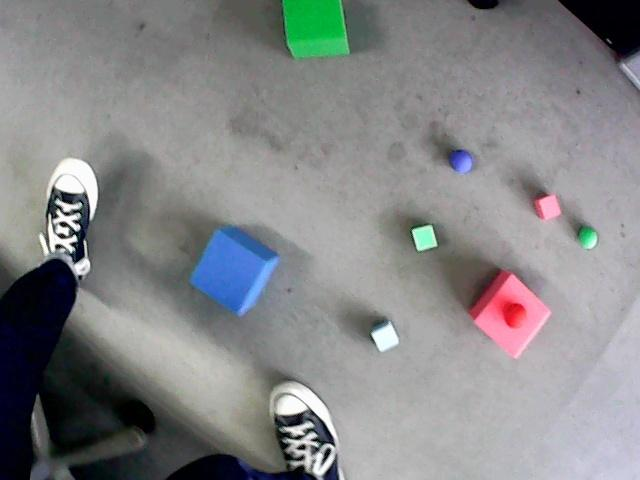blue_block: (191, 227, 279, 315), (371, 320, 399, 352)
red_block: (470, 270, 550, 358), (534, 195, 561, 220)
